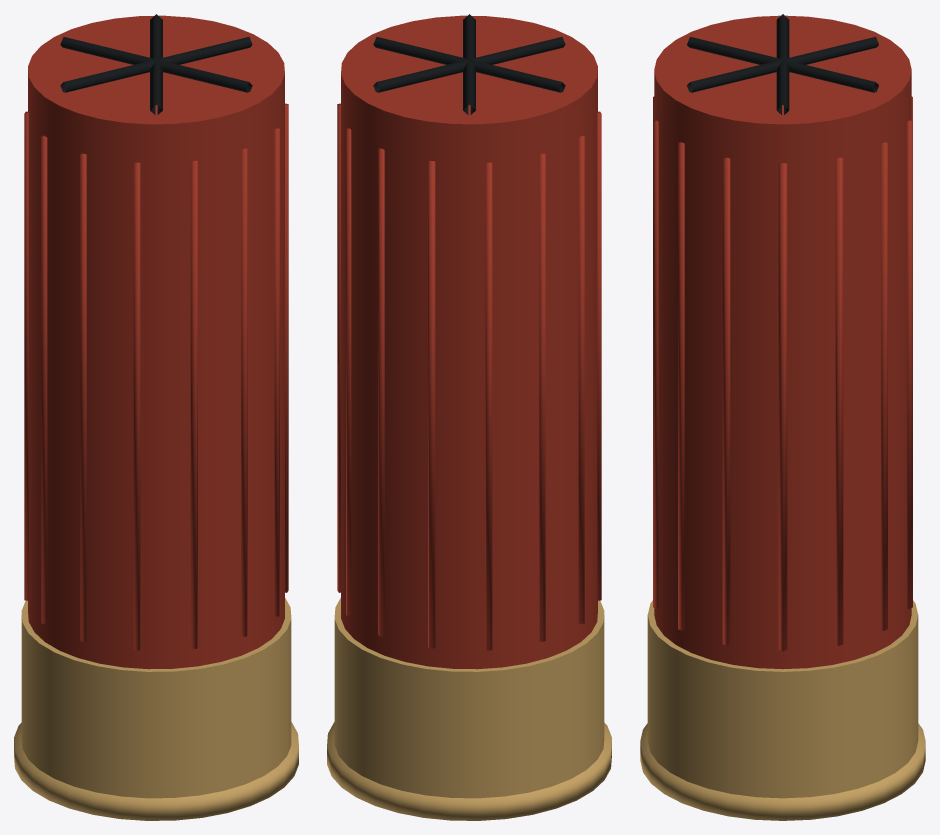
The model's file is shell.glb.
The picture shows the model from 3 angles, left to right: view 1: azimuth 30°, elevation 25°; view 2: azimuth 150°, elevation 25°; view 3: azimuth 270°, elevation 25°; orthographic projection.
Visible parts, largest first — view 1: shell; view 2: shell; view 3: shell.
Boxes of the visible parts, left/top/right/bottom form: shell: left=14, top=14, right=298, bottom=820; shell: left=327, top=14, right=611, bottom=820; shell: left=640, top=14, right=925, bottom=820.
Size of the model in its own units: 0.0266 by 0.0741 by 0.0266.
